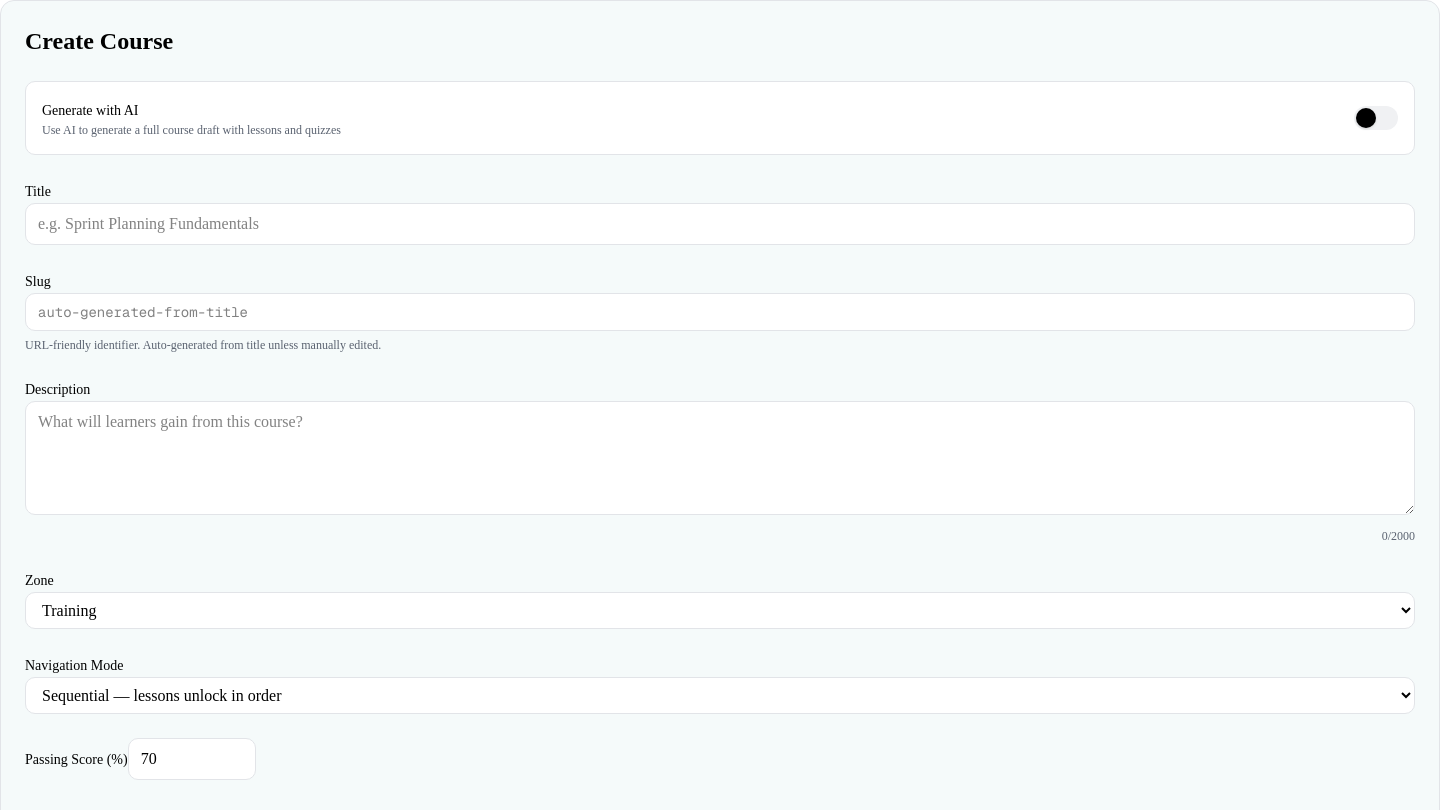
Test case: CourseForm › Create mode (no course prop) › shows error for invalid slug format
Type "Test" into the field labelled "Title". click: (720,224)
box: [25, 203, 1415, 245]
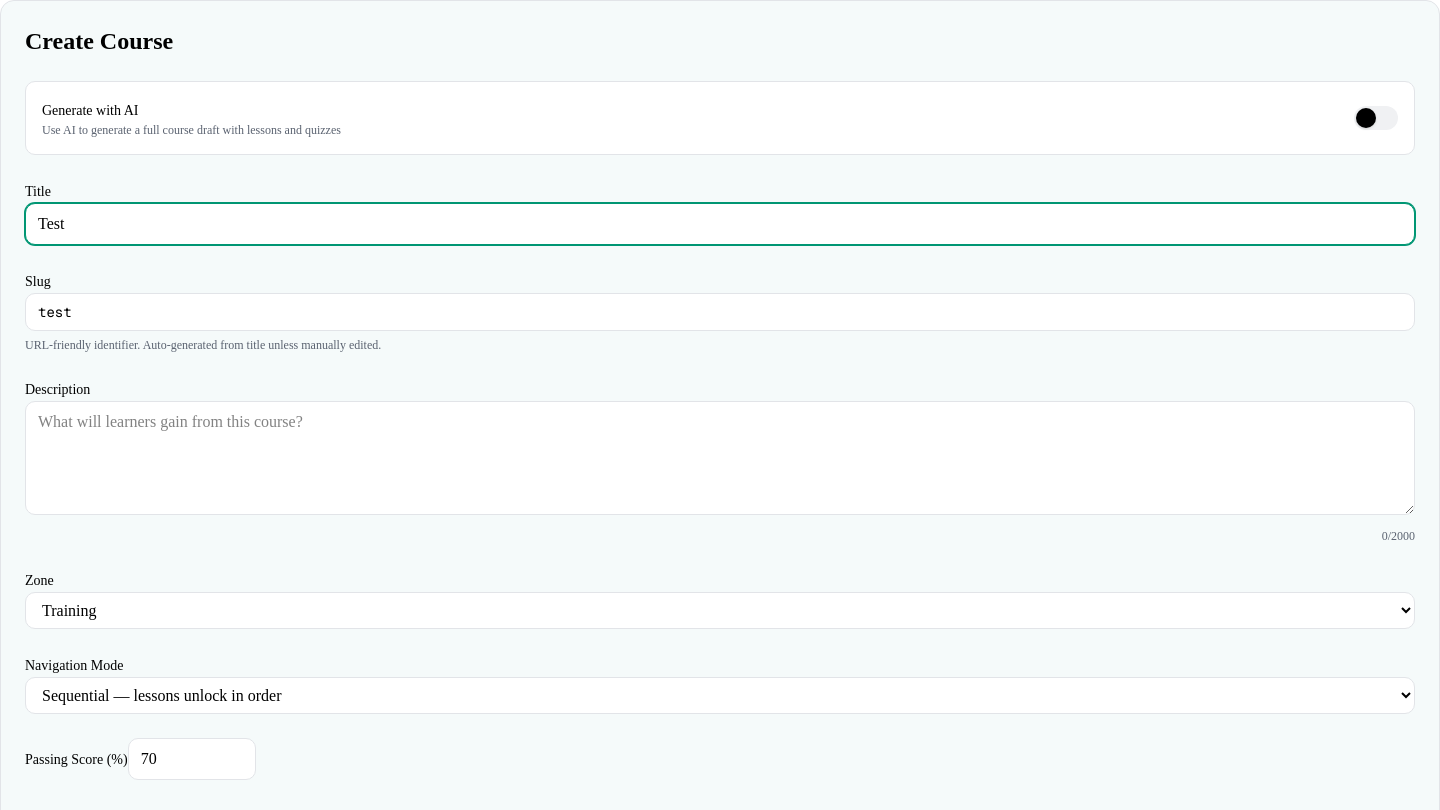
Replace the text in the field labelled "Slug" with "INVALID SLUG!". click: (720,312)
box: [25, 293, 1415, 331]
(page scrolled)
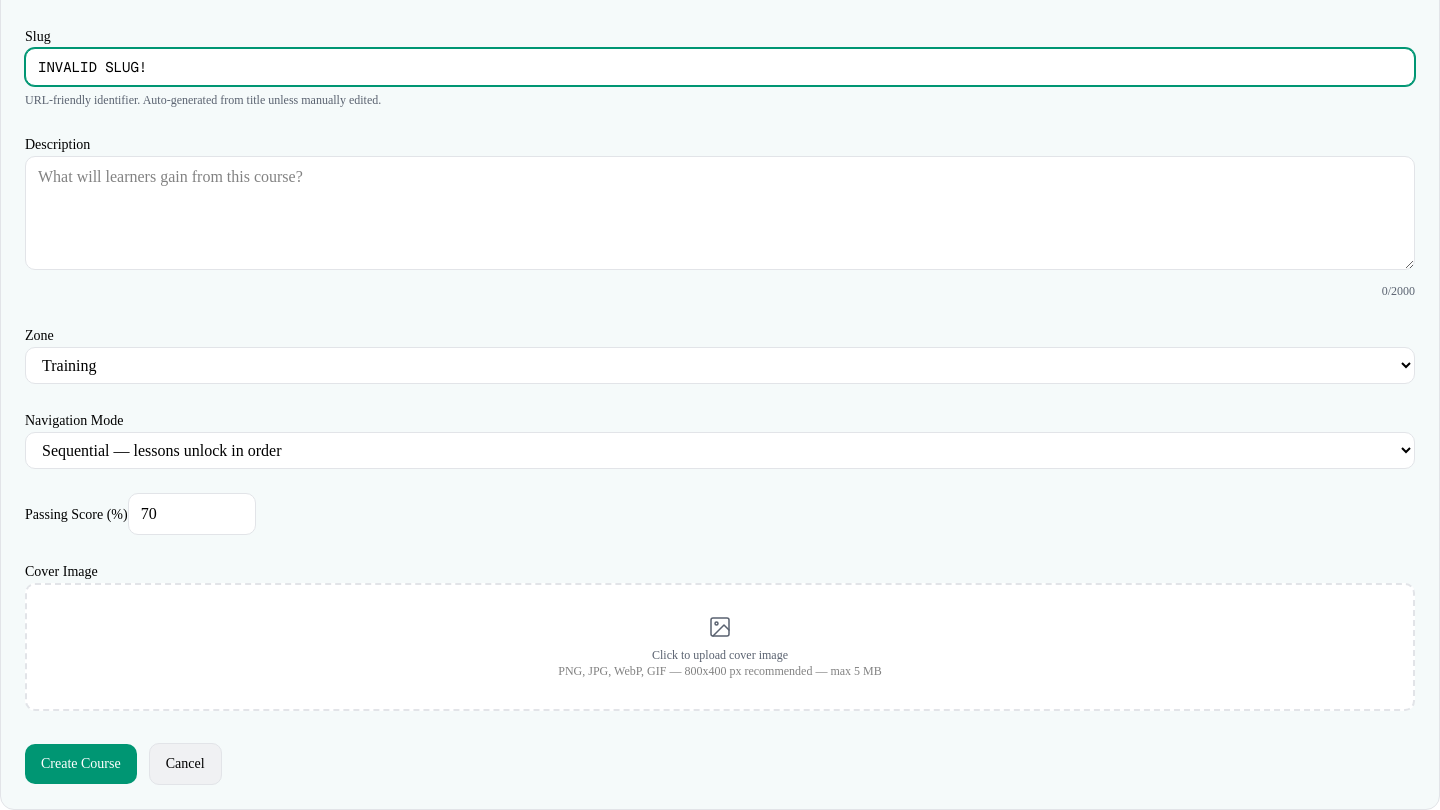
Click the button "Create Course". click: (81,764)
box: [25, 744, 137, 784]
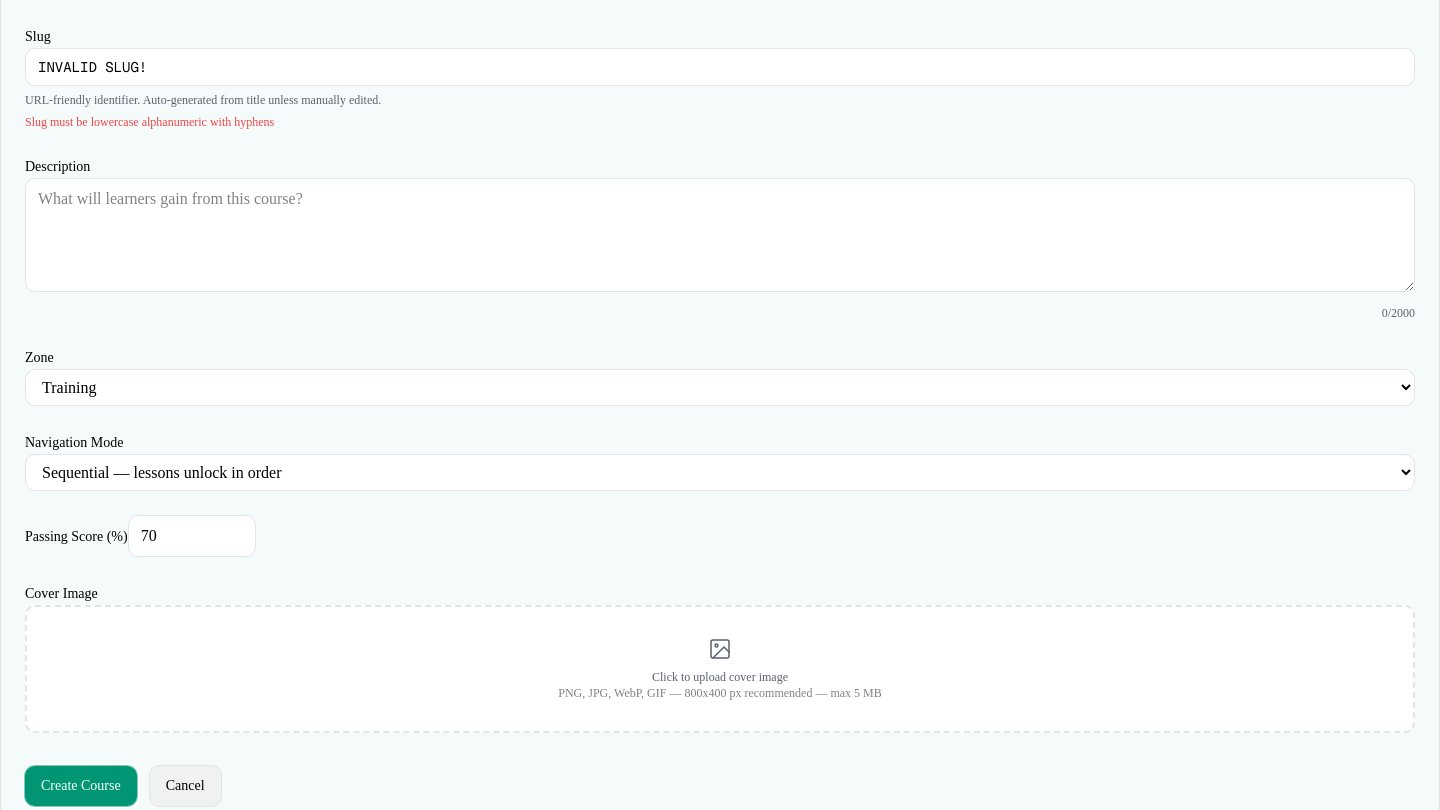
Expected: the text "Slug must be lowercase alphanumeric with hyphens" is shown, [25, 115, 274, 129]
